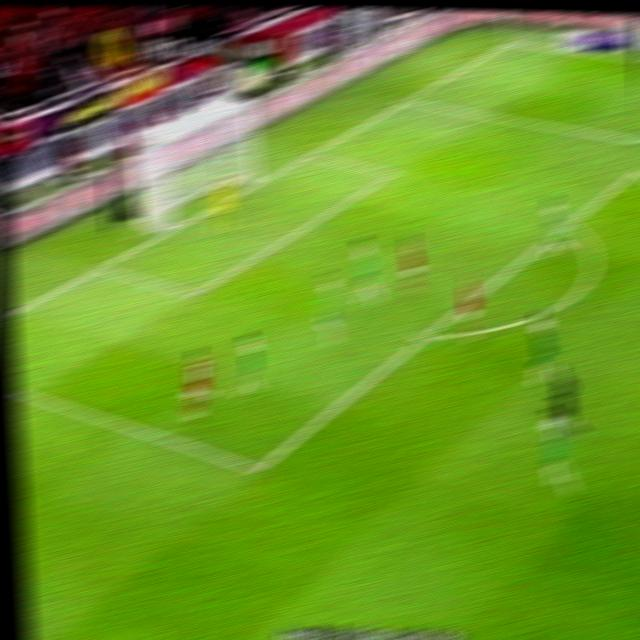bigarea_bottom_inner: (244, 453, 272, 485)
bigarea_top_outter: (397, 94, 416, 107)
bottom_arc_area_intersection: (413, 326, 436, 345)
corner: (498, 36, 522, 47)
smallarea_bottom_inner: (180, 281, 206, 305)
smallarea_bottom_outter: (90, 256, 112, 276)
smallarea_top_inner: (380, 167, 399, 181)
smallarea_top_outter: (299, 146, 319, 161)
top_arc_area_intersection: (558, 215, 578, 231)
